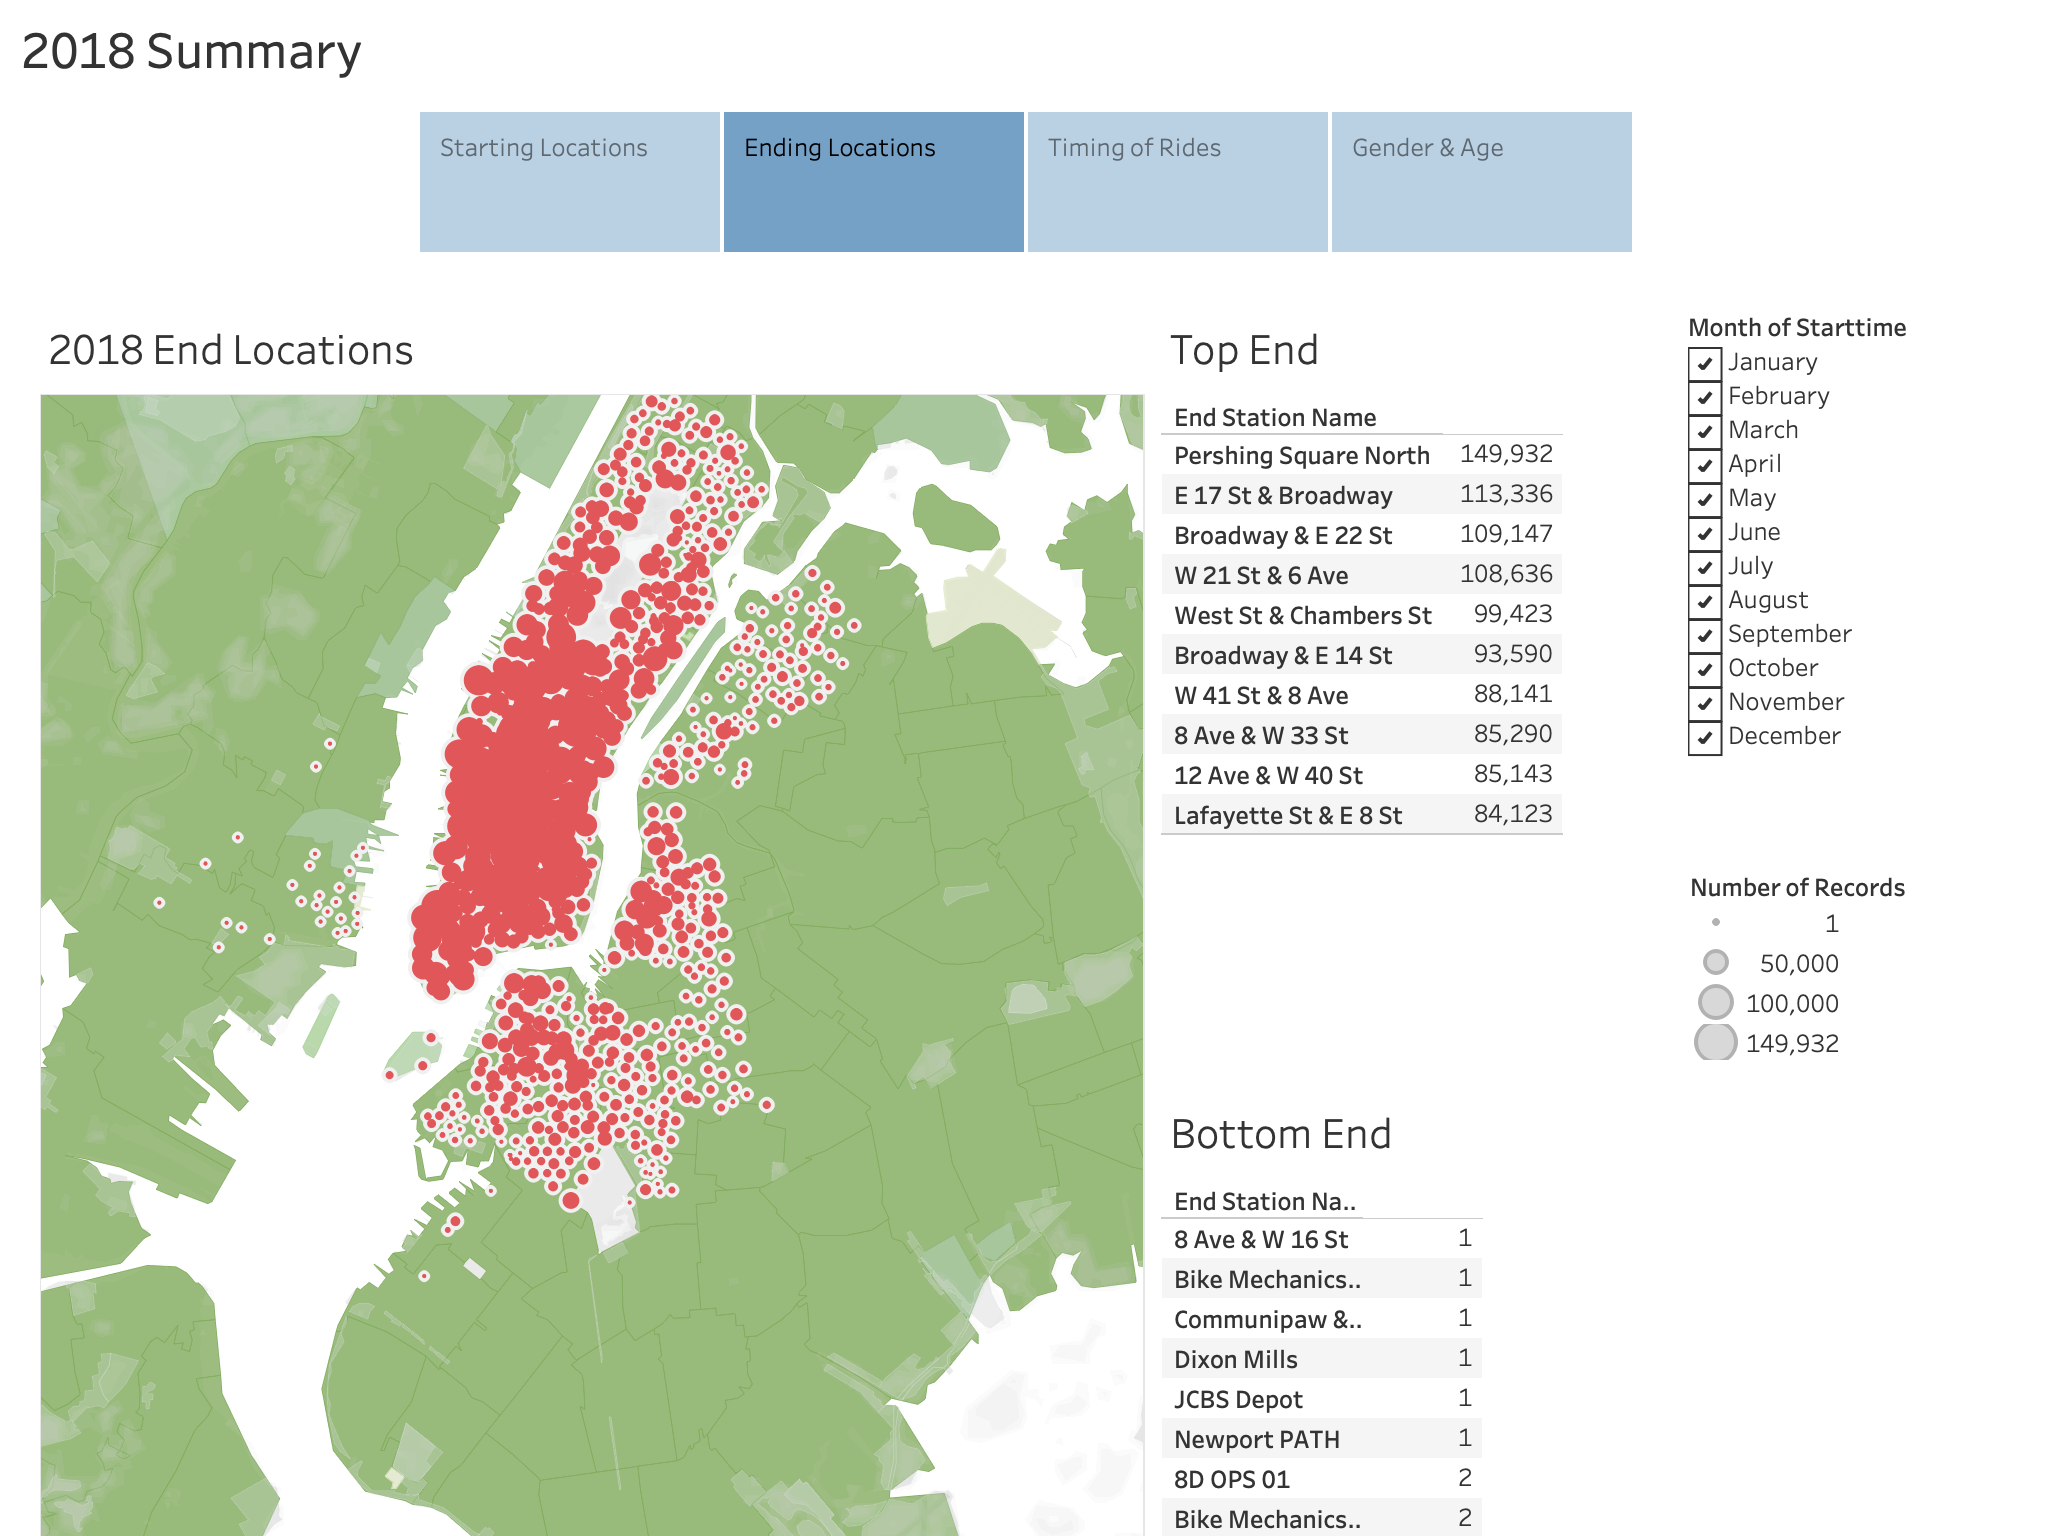

The dashboard page shown, as its layout file describes it:
{"tool":"tableau","page":{"name":"Ending Info","canvas":[1000,800],"ordinal":0},"visuals":[{"type":"worksheet","title":"2018 End Locations","mark":"Pie","rows":["end station latitude"],"cols":["end station longitude"],"box":[8,8,561,784]},{"type":"worksheet","title":"Top End","mark":"Automatic","rows":["end station name"],"box":[569,8,263,392]},{"type":"filter","title":"2018 End Locations","param":"[federated.0b0dhqf1xob8qc129ekpz0kli30j].[mn:starttime:ok]","box":[832,8,160,279]},{"type":"legend","title":"2018 End Locations","param":"[federated.0b0dhqf1xob8qc129ekpz0kli30j].[sum:Number of Records:qk]","box":[832,287,160,106]},{"type":"worksheet","title":"Bottom End","mark":"Automatic","rows":["end station name"],"box":[569,400,263,392]}]}

Visuals, with their boxes on the page's 1000x800 design canvas (x1, y1, x2, y2). These are canvas units, not pixel positions in the 2048x1536 screenshot, which may show the page scaled, cropped or inside an application window:
"2018 End Locations" worksheet (Pie marks): Rect(8, 8, 569, 792)
"Top End" worksheet: Rect(569, 8, 832, 400)
"2018 End Locations" filter: Rect(832, 8, 992, 287)
"2018 End Locations" legend: Rect(832, 287, 992, 393)
"Bottom End" worksheet: Rect(569, 400, 832, 792)
